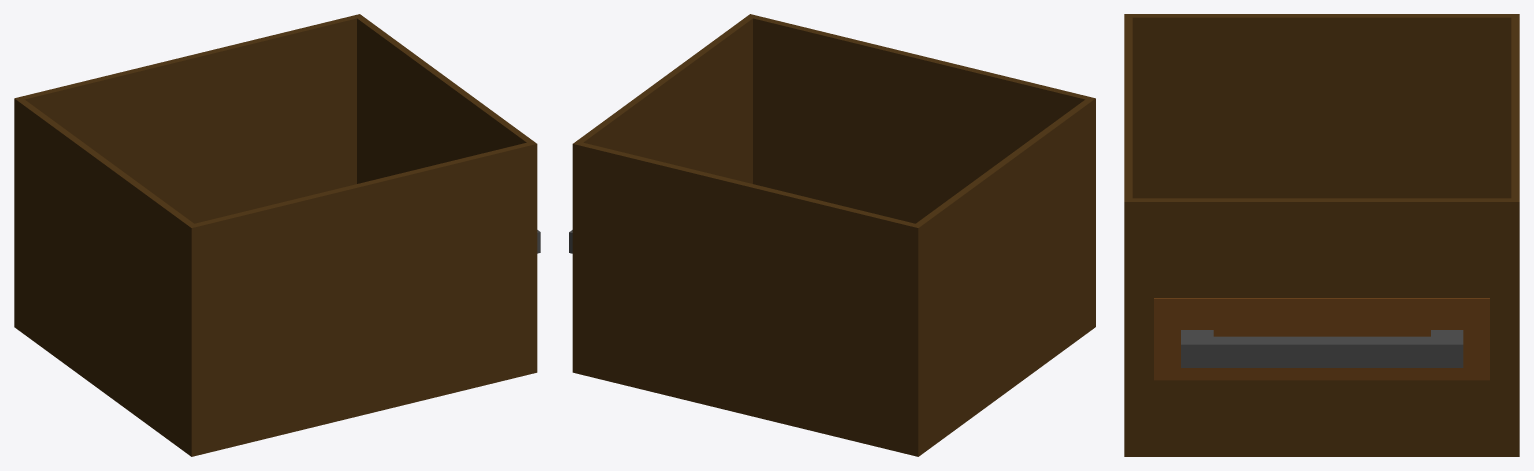
The model's file is arxivador.FBX.
3 views of the same model, side by side, from view 1: azimuth 30°, elevation 25°; view 2: azimuth 150°, elevation 25°; view 3: azimuth 270°, elevation 25° (orthographic). The views are drawn at different scales.
Parts seen in each view (by area): view 1: Box002; view 2: Box002; view 3: Box002.
Part boxes in pixels (x1,y1,x2,y2): Box002: (14,14,540,456); Box002: (569,14,1095,456); Box002: (1124,14,1519,456).
Bounding box in the file's own units: 19.2 × 11.21 × 15.75.
